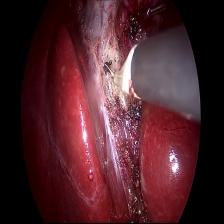Hook: (102, 43, 140, 106)
